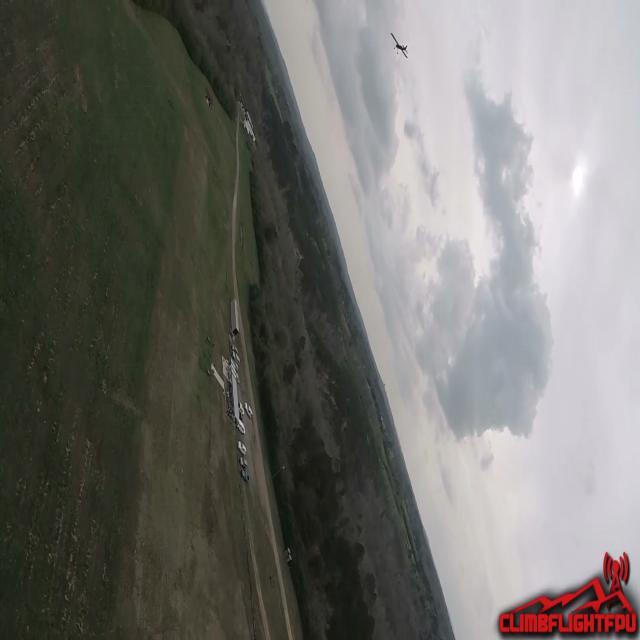iha: (384, 28, 414, 62)
